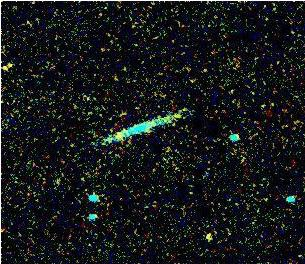star: (101, 121, 131, 151)
